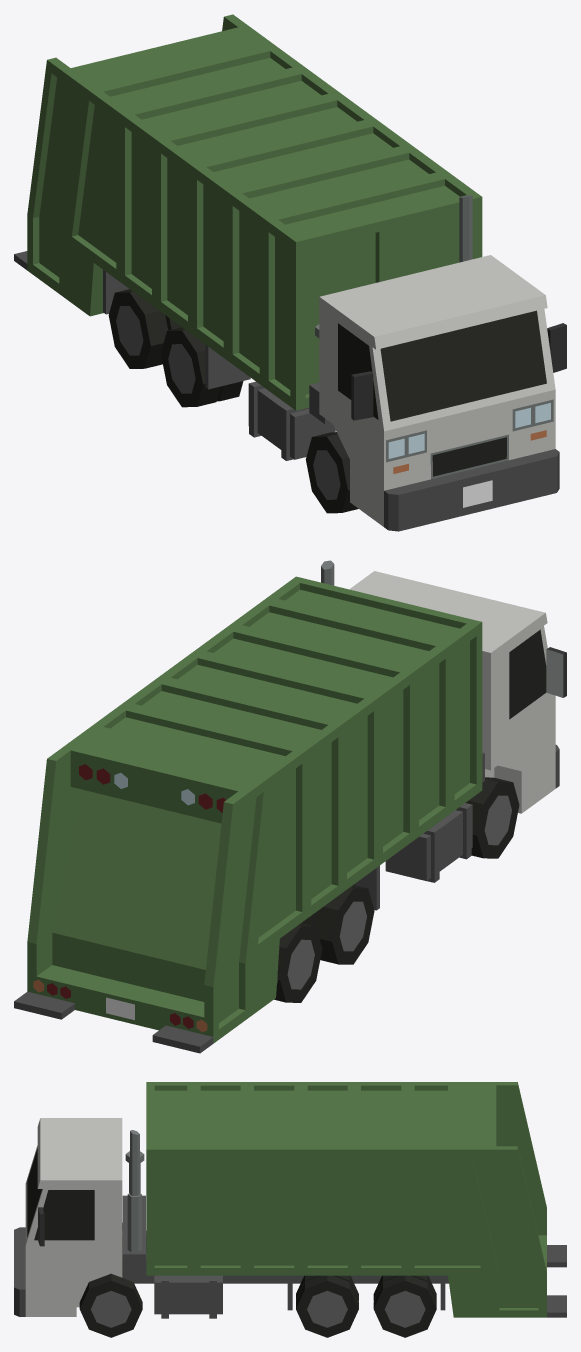
The model's file is Veh_Garbage_Truck.obj.
The picture shows the model from 3 angles, top to bottom: view 1: azimuth 30°, elevation 25°; view 2: azimuth 150°, elevation 25°; view 3: azimuth 270°, elevation 25°; orthographic projection. The views are drawn at different scales.
Bounding box in the file's own units: 1.59 × 1.92 × 4.79.
